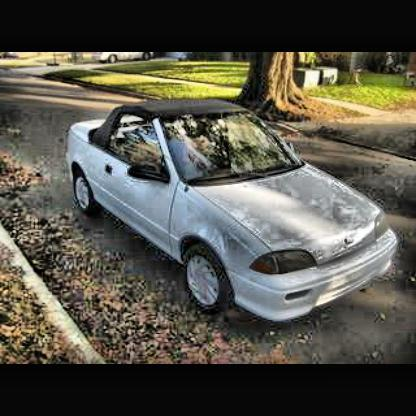Geo Metro Convertible 1993: (66, 101, 401, 325)
